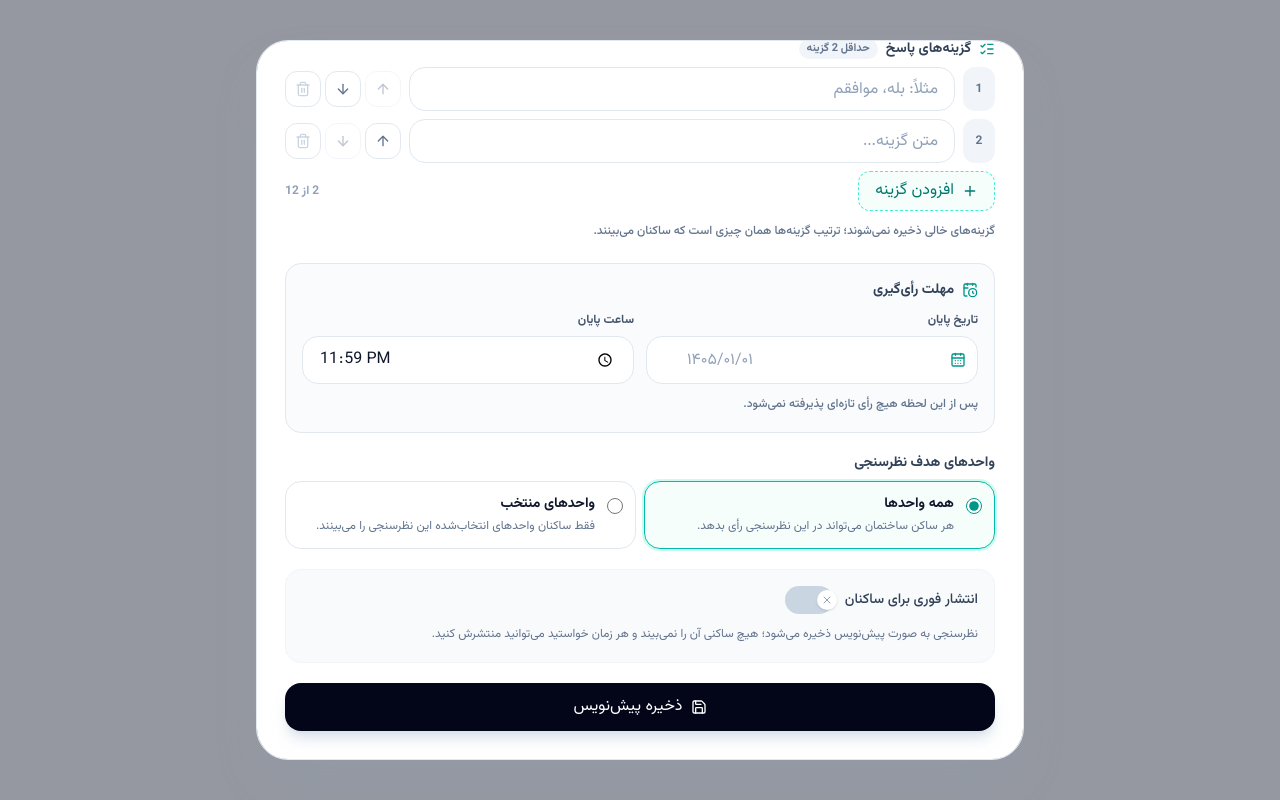
Test: PollFormModal › refuses to submit an empty form
(page scrolled)
What coordinates should you click on to do the following:
click the button "ذخیره پیش‌نویس"
I would click on:
 (640, 707)
Its box is [285, 683, 995, 731].
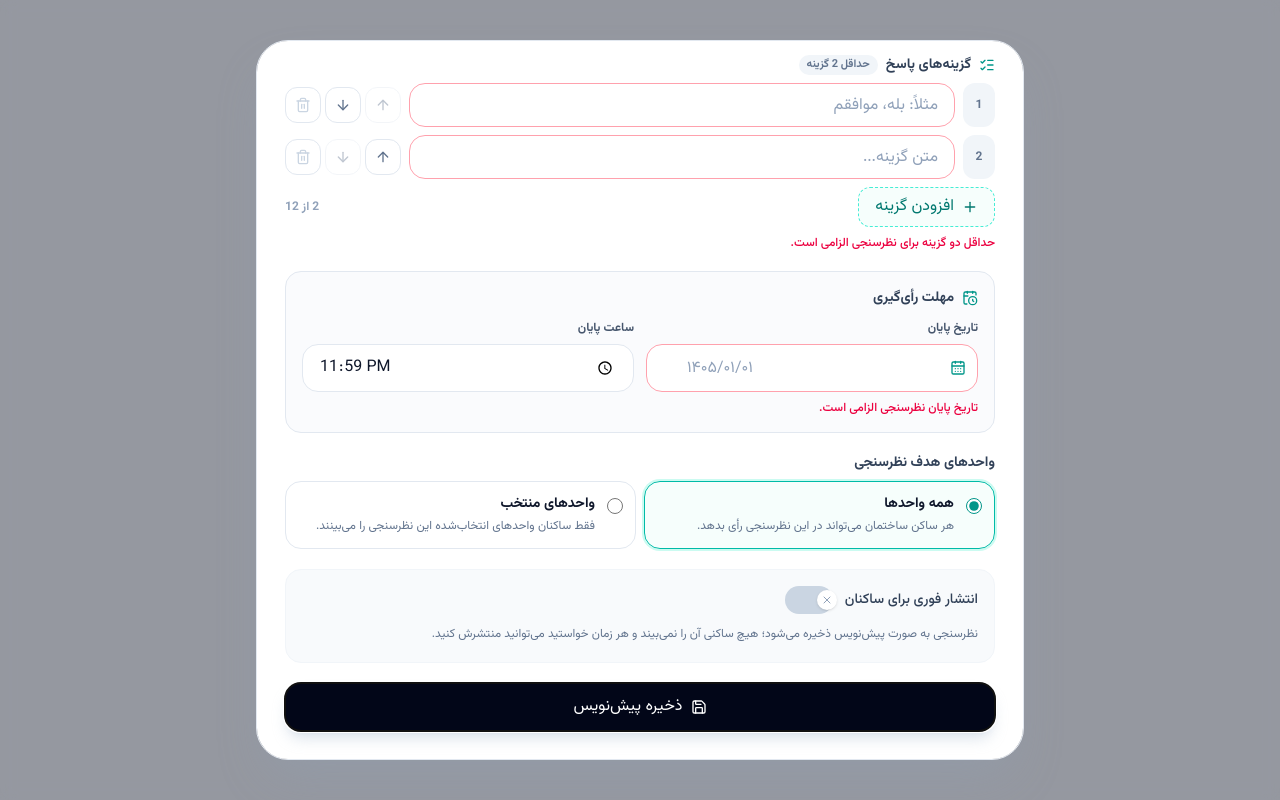
Expected: the text "حداقل دو گزینه برای نظرسنجی الزامی است." is shown, [791, 234, 995, 252]
Expected: the text "تاریخ پایان نظرسنجی الزامی است." is shown, [819, 399, 978, 417]
